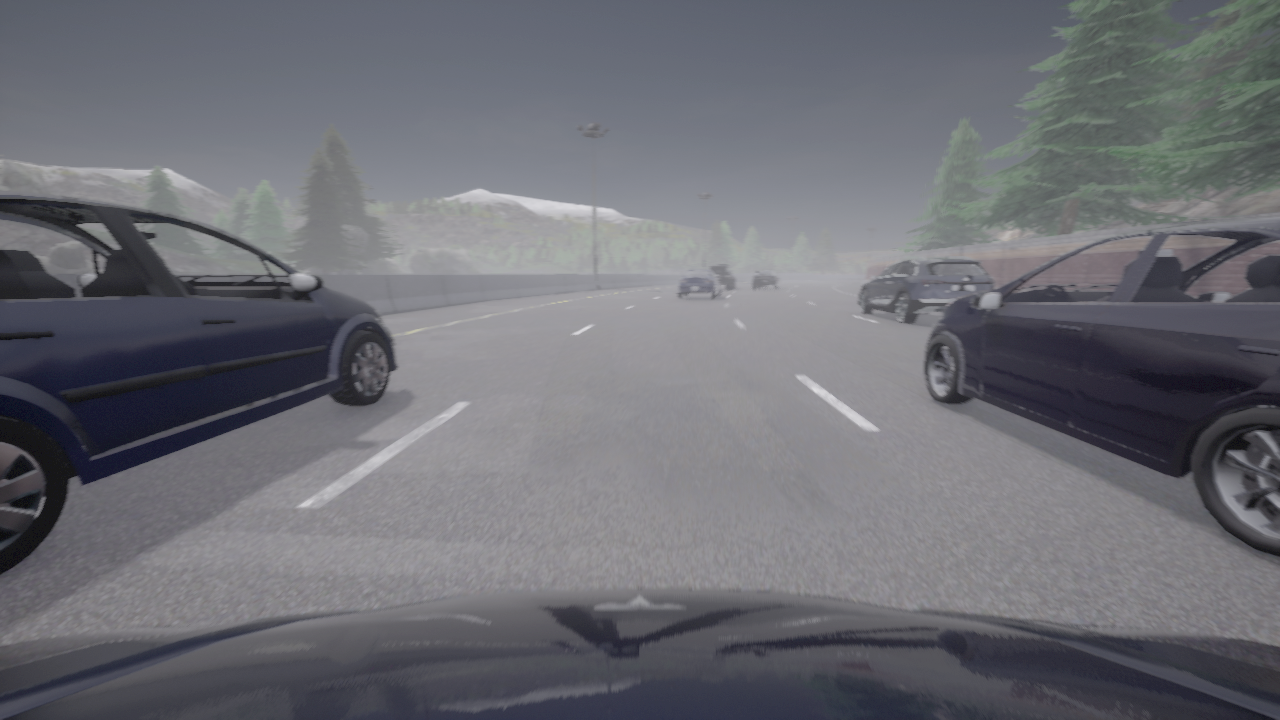cyclist: (0, 588, 1279, 719), (923, 216, 1279, 556), (857, 255, 995, 323), (675, 268, 720, 298), (709, 265, 734, 289), (753, 268, 780, 288)
